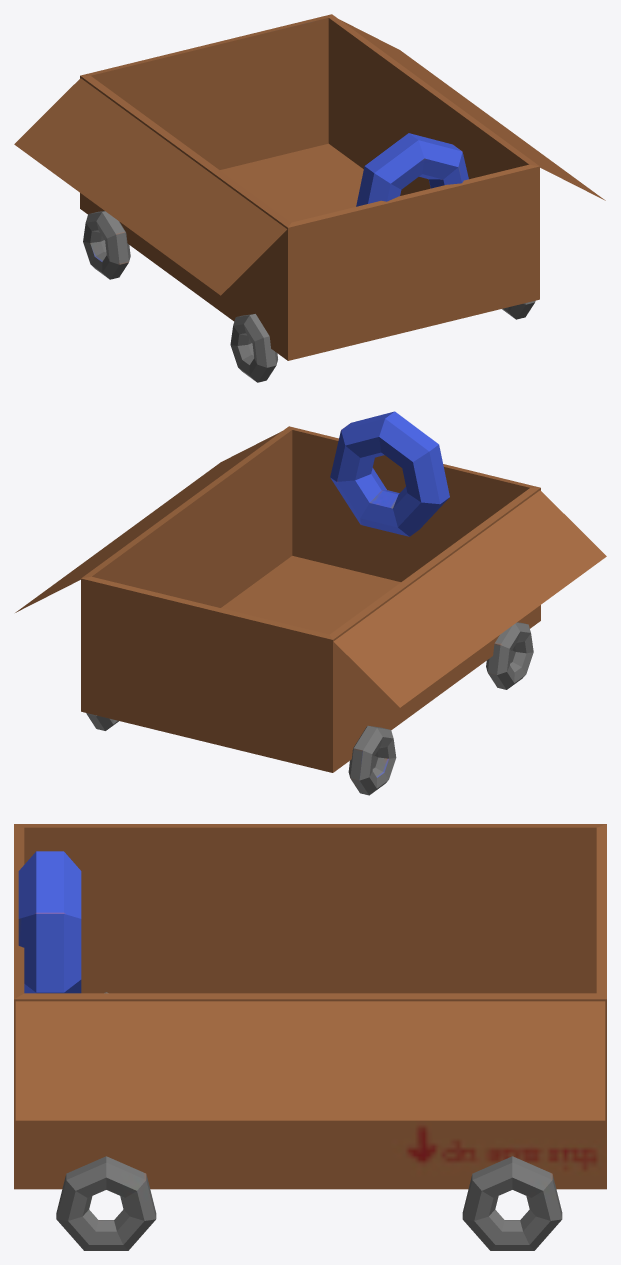
Rendered from car_embedded.fbx.
The picture shows the model from 3 angles, top to bottom: view 1: azimuth 30°, elevation 25°; view 2: azimuth 150°, elevation 25°; view 3: azimuth 270°, elevation 25°; orthographic projection. The views are drawn at different scales.
Parts seen in each view (by area): view 1: car; view 2: car; view 3: car.
Boxes of the visible parts, box(x1,y1,x2,y2) form: car: box(14, 14, 605, 382); car: box(15, 411, 606, 795); car: box(14, 824, 606, 1250).
Size of the model in its own units: 31.24 by 16.99 by 29.14.
1 material, 1 textured.
